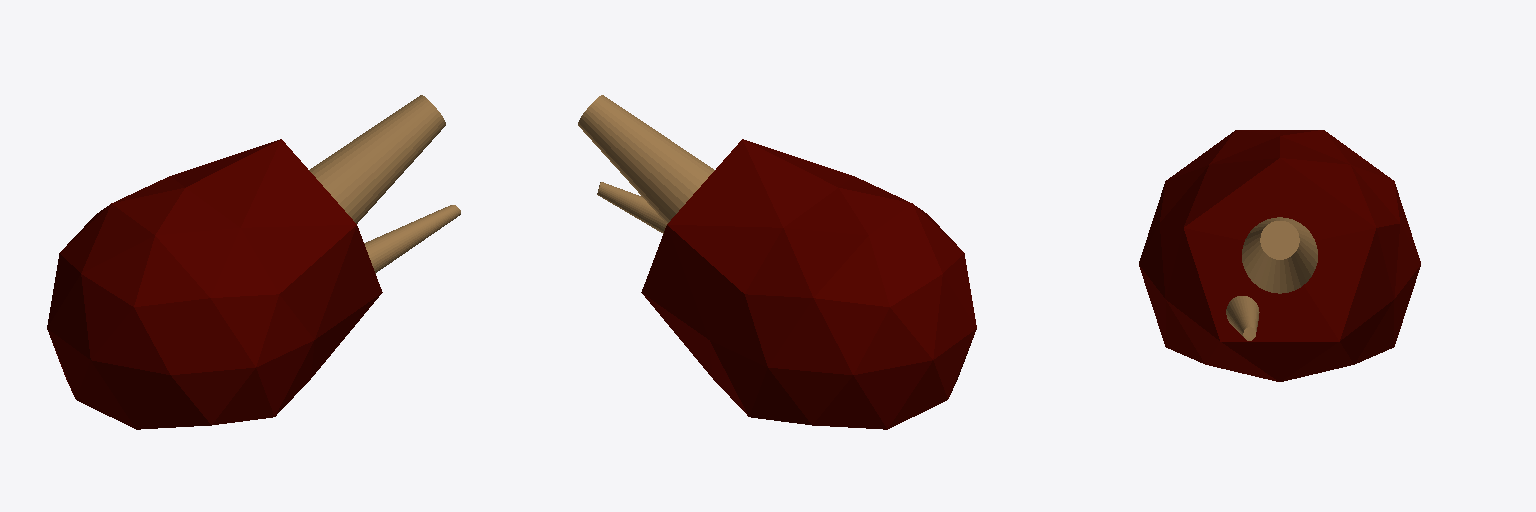
The model's file is meat.obj.
The picture shows the model from 3 angles: view 1: azimuth 30°, elevation 25°; view 2: azimuth 150°, elevation 25°; view 3: azimuth 270°, elevation 25°; orthographic projection.
Visible parts, largest first — view 1: Icosphere, Cylinder, Cylinder.001; view 2: Icosphere, Cylinder, Cylinder.001; view 3: Icosphere, Cylinder, Cylinder.001.
Boxes of the visible parts, <box> form: Icosphere: <box>47,139,382,429</box>; Cylinder: <box>309,95,445,223</box>; Cylinder.001: <box>364,205,460,273</box>; Icosphere: <box>641,139,976,429</box>; Cylinder: <box>578,95,714,223</box>; Cylinder.001: <box>597,182,666,233</box>; Icosphere: <box>1139,130,1420,381</box>; Cylinder: <box>1242,217,1317,293</box>; Cylinder.001: <box>1226,296,1259,340</box>.
Bounding box in the file's own units: 3.05 × 1.84 × 2.